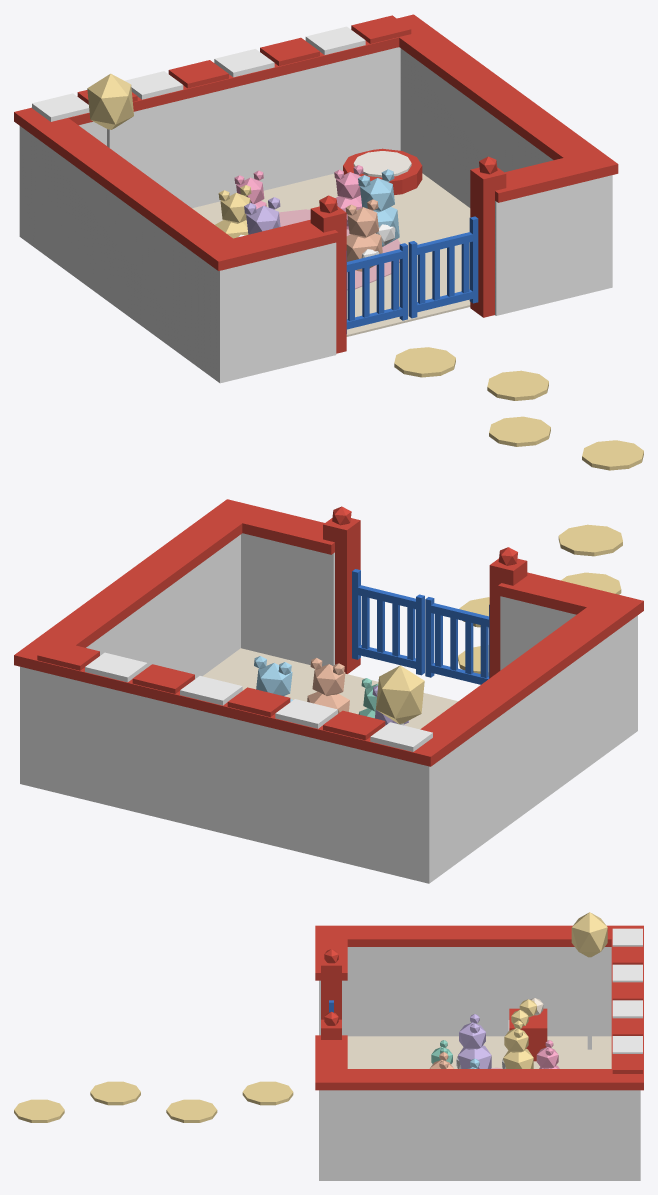
Rendered from CatCafe_Nook_WaterPark.glb.
3 renders of one model, top to bottom at view 1: azimuth 30°, elevation 25°; view 2: azimuth 150°, elevation 25°; view 3: azimuth 270°, elevation 25°, orthographic. The views are drawn at different scales.
Visible parts, largest first — view 1: CatCafe_Nook_WaterPark, CatCafe_Nook_WaterPark_Decor, CatCafe_Nook_WaterPark_Trap, CatCafe_Nook_WaterPark_GateL, CatCafe_Nook_WaterPark_GateR; view 2: CatCafe_Nook_WaterPark, CatCafe_Nook_WaterPark_Decor, CatCafe_Nook_WaterPark_GateL, CatCafe_Nook_WaterPark_GateR, CatCafe_Nook_WaterPark_Trap; view 3: CatCafe_Nook_WaterPark, CatCafe_Nook_WaterPark_Decor, CatCafe_Nook_WaterPark_Trap.
Boxes of the visible parts, x1=… form: CatCafe_Nook_WaterPark: x1=14, y1=14, x2=618, y2=383; CatCafe_Nook_WaterPark_Decor: x1=192, y1=173, x2=643, y2=470; CatCafe_Nook_WaterPark_Trap: x1=215, y1=165, x2=400, y2=290; CatCafe_Nook_WaterPark_GateL: x1=408, y1=216, x2=478, y2=318; CatCafe_Nook_WaterPark_GateR: x1=346, y1=243, x2=407, y2=333; CatCafe_Nook_WaterPark: x1=14, y1=499, x2=643, y2=883; CatCafe_Nook_WaterPark_Decor: x1=203, y1=524, x2=622, y2=729; CatCafe_Nook_WaterPark_GateL: x1=352, y1=569, x2=424, y2=675; CatCafe_Nook_WaterPark_GateR: x1=425, y1=597, x2=489, y2=684; CatCafe_Nook_WaterPark_Trap: x1=254, y1=656, x2=408, y2=725; CatCafe_Nook_WaterPark: x1=315, y1=912, x2=643, y2=1180; CatCafe_Nook_WaterPark_Decor: x1=14, y1=1036, x2=611, y2=1122; CatCafe_Nook_WaterPark_Trap: x1=429, y1=1014, x2=559, y2=1068.
Bounding box in the file's own units: 8.76 × 3.6 × 14.88.
Materials: 1 (1 with a texture image).
